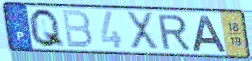4: (99, 10, 124, 51)
A: (191, 13, 228, 53)
B: (60, 8, 94, 49)
Q: (28, 7, 68, 49)
R: (156, 13, 192, 51)
X: (125, 10, 161, 53)
